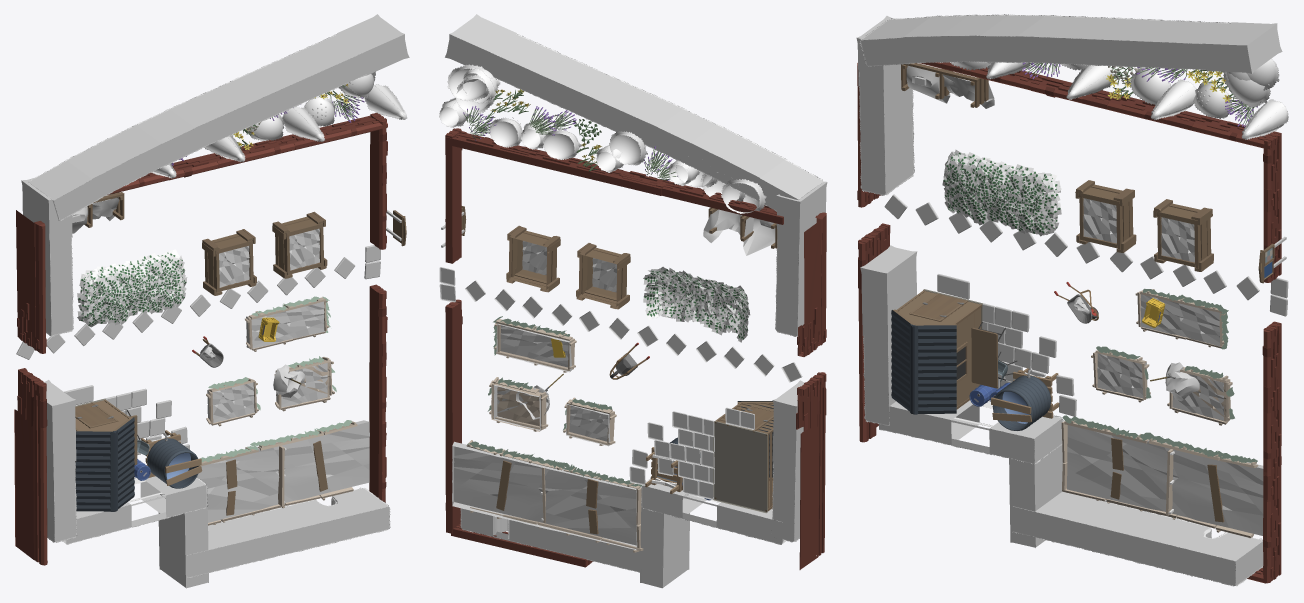
The model's file is 202412031822testFBXBlender.fbx.
3 views of the same model, side by side, from view 1: azimuth 30°, elevation 25°; view 2: azimuth 150°, elevation 25°; view 3: azimuth 330°, elevation 25° (orthographic). The views are drawn at different scales.
Parts seen in each view (by area): view 1: brick_gate, PlanterDirtLeftLow0, shed, leaves, brickwall1, brickwall3, HedgeHole, HedgeSideEnd6, HedgeSideEnd5, brickwall2, HedgeSideMiddle20, PlanterDirtCenterLow2 (+41 smaller); view 2: PlanterDirtLeftLow0, brick_gate, shed, leaves, brickwall3, brickwall1, brickwall2, HedgeSideEnd5, PlanterDirtCenterLow2, HedgeSideMiddle20, HedgeSideMiddle22, HedgeSideMiddle4 (+46 smaller); view 3: PlanterDirtLeftLow0, shed, leaves, brickwall1, HedgeHole, brickwall3, HedgeSideEnd5, brick_gate, HedgeEnd3, HedgeEnd4, HedgeEnd0, brickwall2 (+49 smaller).
Boxes of the visible parts, box(x1,y1,x2,y2) form: brick_gate: box(14, 210, 47, 565); PlanterDirtLeftLow0: box(197, 420, 369, 522); shed: box(75, 398, 134, 511); leaves: box(77, 249, 187, 327); brickwall1: box(369, 284, 387, 502); brickwall3: box(169, 115, 387, 180); HedgeHole: box(308, 488, 388, 542); HedgeSideEnd6: box(28, 161, 98, 219); HedgeSideEnd5: box(338, 17, 406, 73); brickwall2: box(370, 113, 387, 249); HedgeSideMiddle20: box(101, 125, 166, 181); PlanterDirtCenterLow2: box(246, 301, 325, 348); PlanterDirtLeftLow0: box(452, 441, 637, 549); brick_gate: box(796, 212, 826, 569); shed: box(713, 400, 773, 513); leaves: box(643, 266, 750, 342); brickwall3: box(445, 131, 670, 195); brickwall1: box(445, 299, 462, 533); brickwall2: box(445, 128, 462, 263); HedgeSideEnd5: box(447, 17, 515, 70); PlanterDirtCenterLow2: box(496, 324, 572, 372); HedgeSideMiddle20: box(686, 124, 751, 179); HedgeSideMiddle22: box(556, 65, 619, 119); HedgeSideMiddle4: box(520, 50, 583, 104); PlanterDirtLeftLow0: box(1067, 425, 1263, 535); shed: box(891, 289, 983, 414); leaves: box(942, 149, 1061, 236); brickwall1: box(1262, 321, 1281, 583); HedgeHole: box(1173, 525, 1263, 585); brickwall3: box(1029, 75, 1272, 150); HedgeSideEnd5: box(1203, 23, 1279, 71); brick_gate: box(857, 63, 890, 442); HedgeEnd3: box(863, 248, 914, 320); HedgeEnd4: box(989, 416, 1062, 463); HedgeEnd0: box(861, 127, 913, 194); brickwall2: box(1263, 131, 1281, 282).
Bounding box in the file's own units: 13.78 × 17.84 × 2.66.
